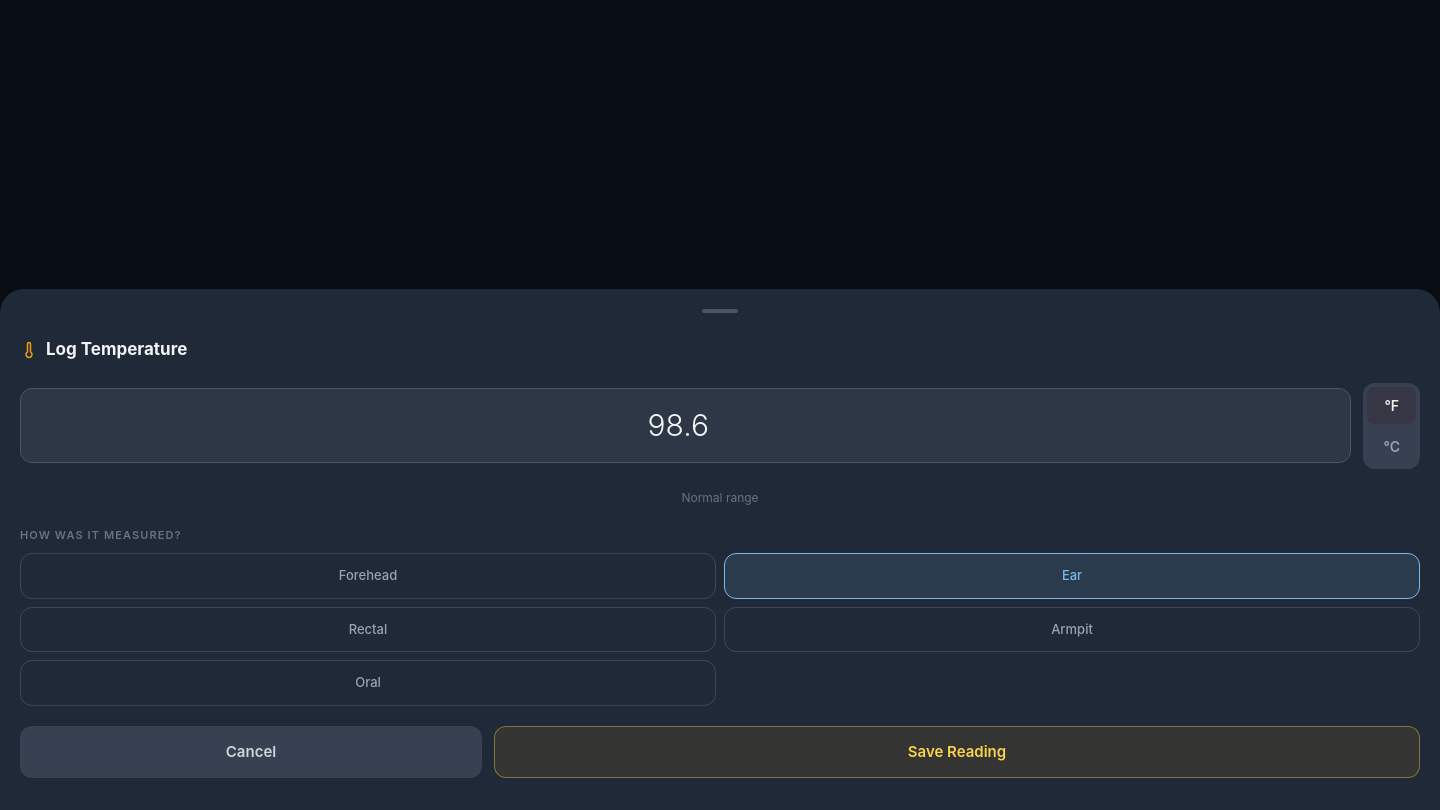
it: TempLogSheet › shows fever callout when value is at or above 100.4°F
Clear the number field: (686, 426) x1=20 y1=388 x2=1352 y2=463
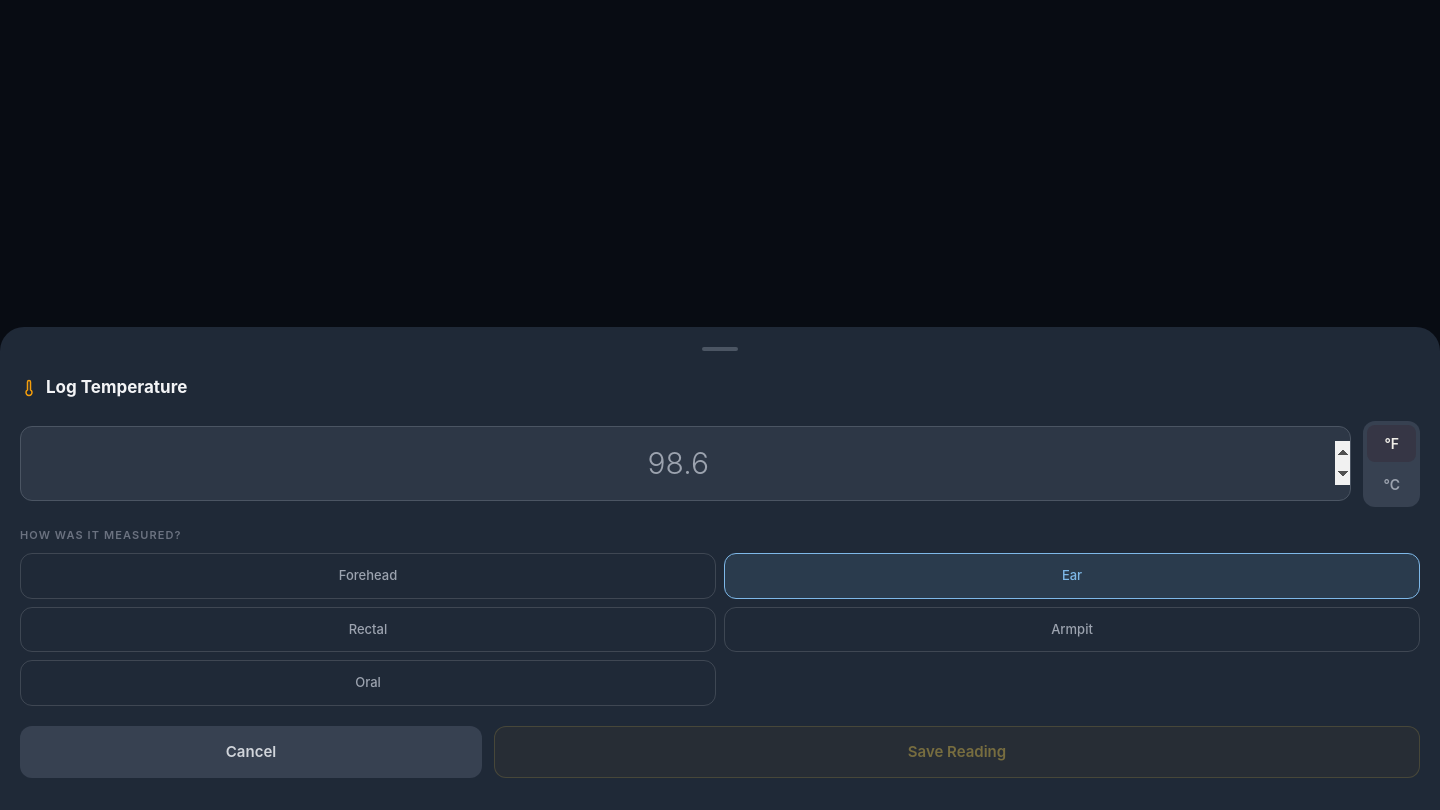
In the number field: (686, 464) x1=20 y1=426 x2=1352 y2=501, type "101.2"
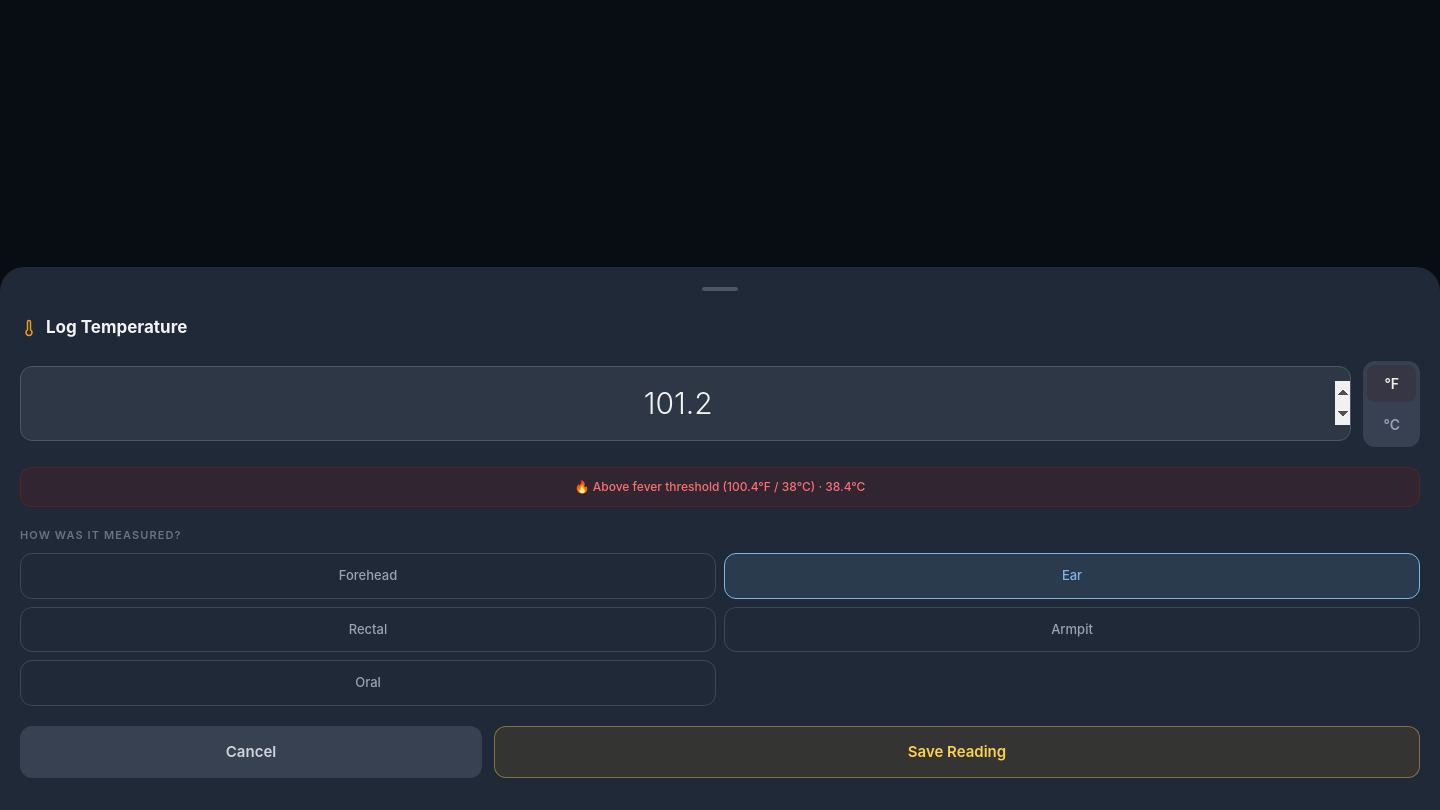
Check: the text "🔥 Above fever threshold (100.4°F / 38°C) · 38.4°C" is shown, box x1=20 y1=466 x2=1420 y2=506
